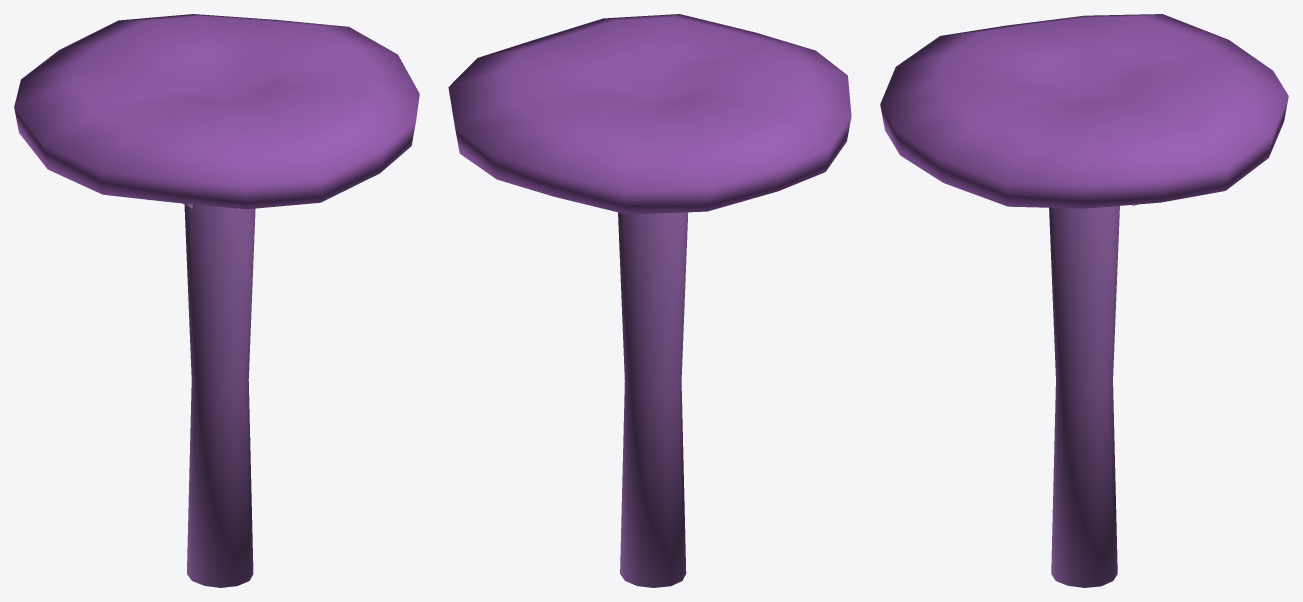
File: amethyst-deceiver.glb
3 views of the same model, side by side, from view 1: azimuth 30°, elevation 25°; view 2: azimuth 150°, elevation 25°; view 3: azimuth 270°, elevation 25° (orthographic).
Visible parts, largest first — view 1: fungus_amethyst-deceiver_LOD0; view 2: fungus_amethyst-deceiver_LOD0; view 3: fungus_amethyst-deceiver_LOD0.
Boxes of the visible parts, bbox=[...] form: fungus_amethyst-deceiver_LOD0: bbox=[14, 14, 419, 587]; fungus_amethyst-deceiver_LOD0: bbox=[448, 14, 851, 587]; fungus_amethyst-deceiver_LOD0: bbox=[880, 14, 1288, 587].
Bounding box in the file's own units: 0.086 × 0.1158 × 0.086.
